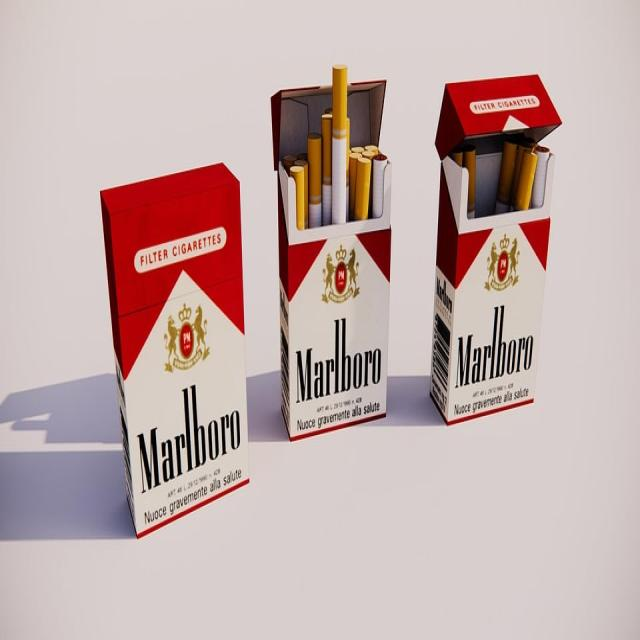marlboro: (97, 156, 250, 530), (431, 71, 562, 427), (271, 73, 390, 441)
